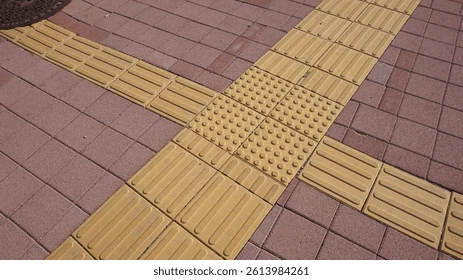piso_tatil: (13, 1, 463, 260)
piso_tatil_alerta: (232, 121, 321, 188), (185, 93, 268, 155), (269, 83, 346, 143), (220, 62, 298, 117)
piso_tatil_direcional: (170, 174, 276, 259), (361, 156, 452, 253), (122, 139, 221, 225), (71, 179, 171, 260), (296, 141, 388, 213), (145, 76, 224, 126), (106, 61, 181, 110), (71, 48, 142, 91), (311, 44, 379, 86), (263, 27, 334, 67), (39, 35, 107, 73), (14, 20, 80, 58), (333, 23, 396, 58), (294, 9, 351, 43), (354, 5, 410, 37), (317, 1, 371, 24)
piso_tatil_direcional_horizontal: (359, 154, 450, 251), (294, 139, 386, 211), (143, 74, 222, 124), (104, 59, 179, 108), (69, 46, 140, 89), (37, 33, 105, 71), (12, 18, 78, 56)
piso_tatil_direcional_vertical: (168, 172, 274, 257), (120, 137, 219, 223), (69, 177, 169, 258), (309, 42, 377, 84), (261, 25, 332, 65), (331, 21, 394, 56), (292, 7, 349, 41), (352, 3, 408, 35), (315, 1, 369, 23)
